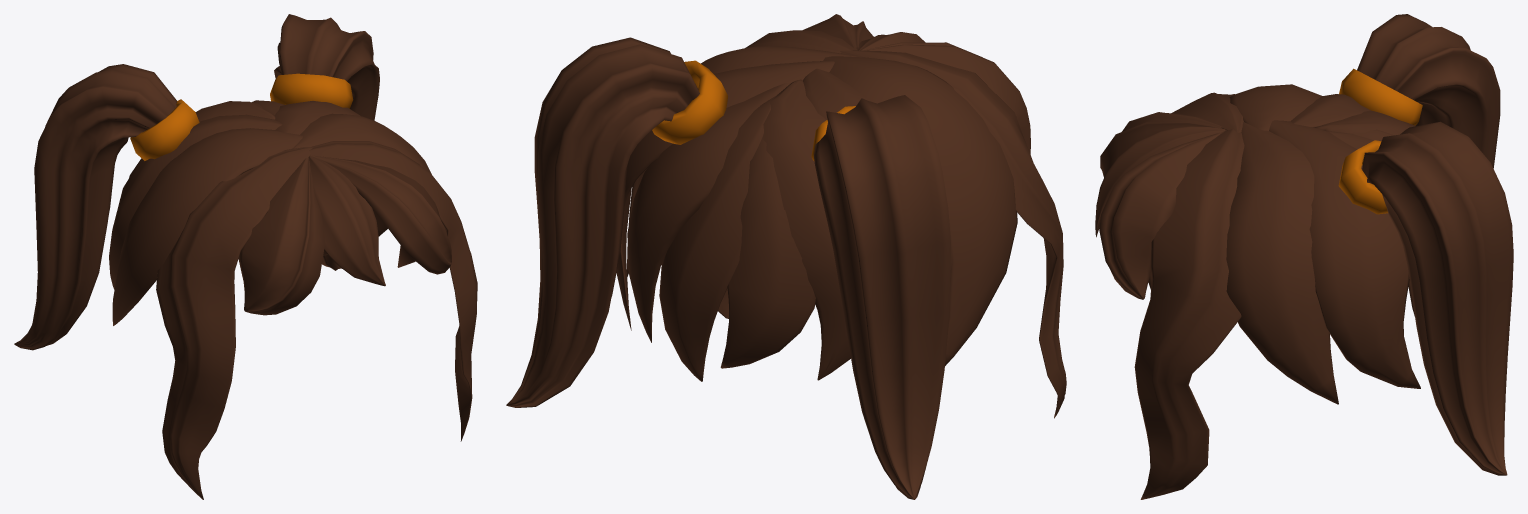
3 renders of one model, left to right at view 1: azimuth 30°, elevation 25°; view 2: azimuth 150°, elevation 25°; view 3: azimuth 270°, elevation 25°, orthographic. The views are drawn at different scales.
Visible parts, largest first — view 1: hairShortPigtailsPunk; view 2: hairShortPigtailsPunk; view 3: hairShortPigtailsPunk.
Boxes of the visible parts, box(x1,y1,x2,y2) form: hairShortPigtailsPunk: box(14, 14, 477, 499); hairShortPigtailsPunk: box(506, 14, 1066, 499); hairShortPigtailsPunk: box(1095, 14, 1513, 499).
Bounding box in the file's own units: 0.559 × 0.5254 × 0.5459.
1 material, 1 textured.
